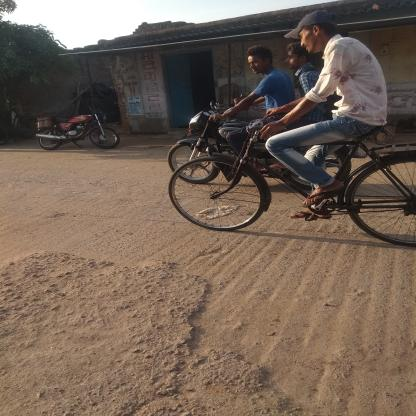bike: (147, 119, 416, 267)
